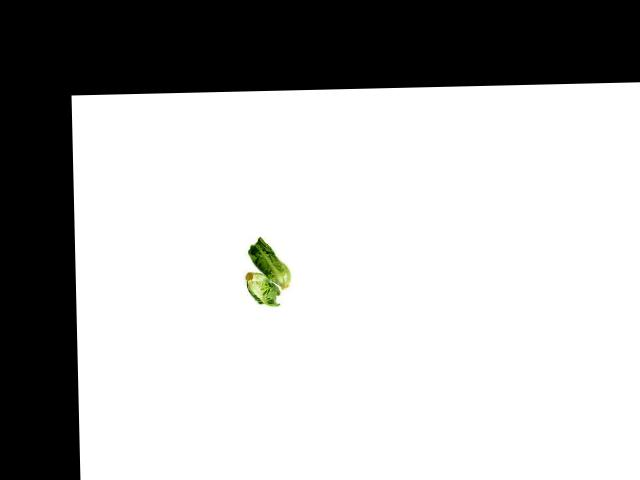lettuce: (236, 239, 292, 309)
